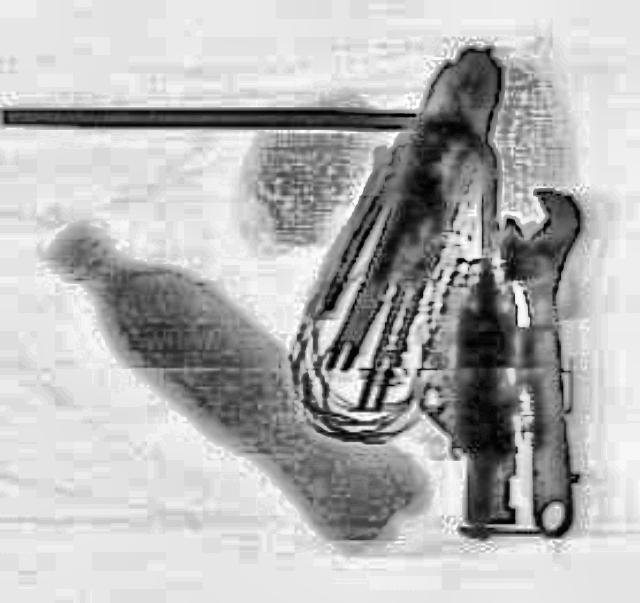Wrench: (493, 186, 597, 539)
